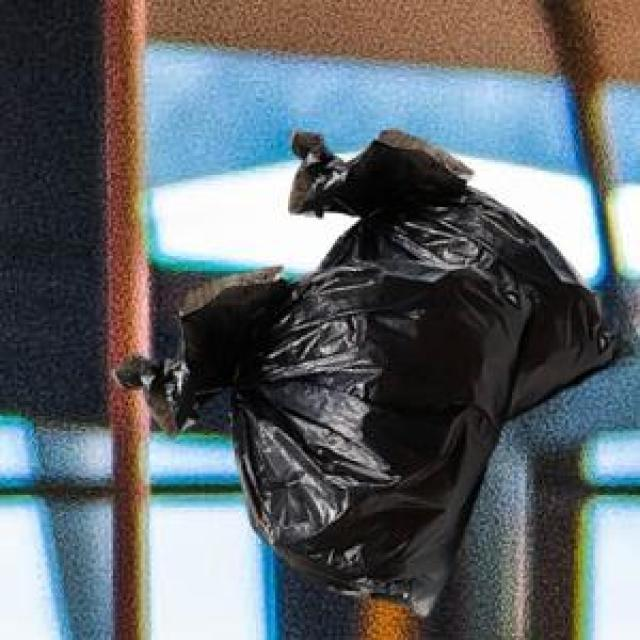waste: (118, 130, 615, 616)
